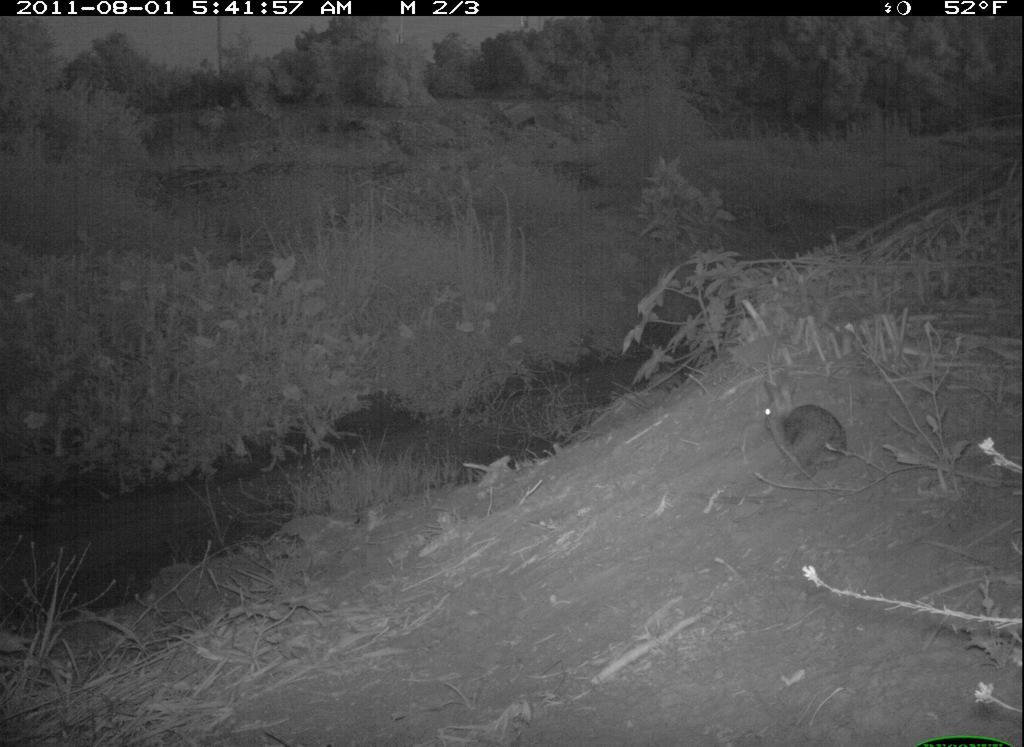rabbit: (754, 374, 849, 483)
